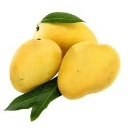mango: (60, 41, 122, 100), (9, 39, 63, 93)
